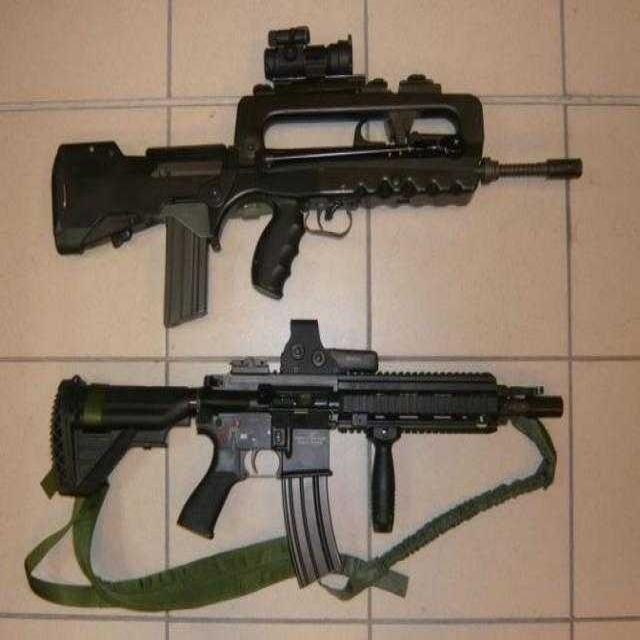heavyweapon: (58, 36, 621, 327), (48, 347, 583, 589)
